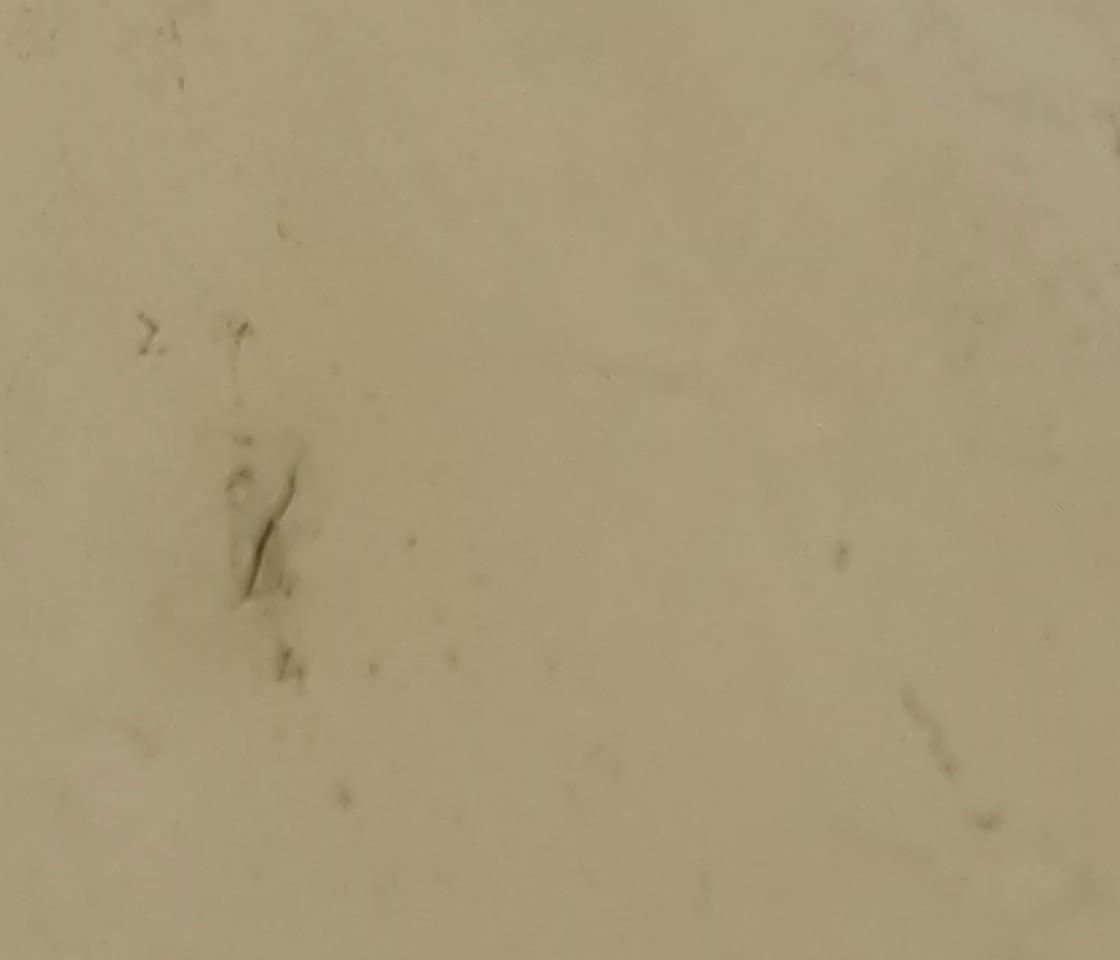scratch: (241, 466, 303, 602)
